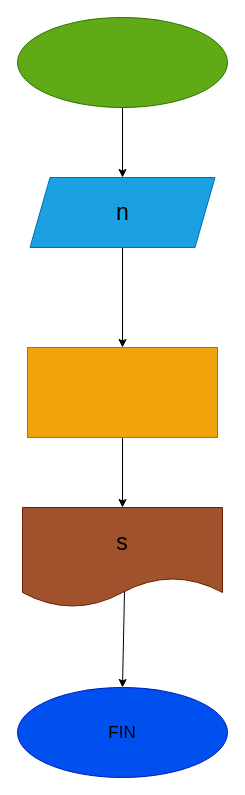
The diagram is 245 pixels wide and 795 high, and some of its shapes have lost their labels. The shapes that lost their labels are listed below. From the top down, each one's box as (x1, y1, x2, y2) in pixels, then its label:
(16, 16, 228, 108): INICIO
(26, 346, 218, 438): s = (n *(n + 1)) / 2
